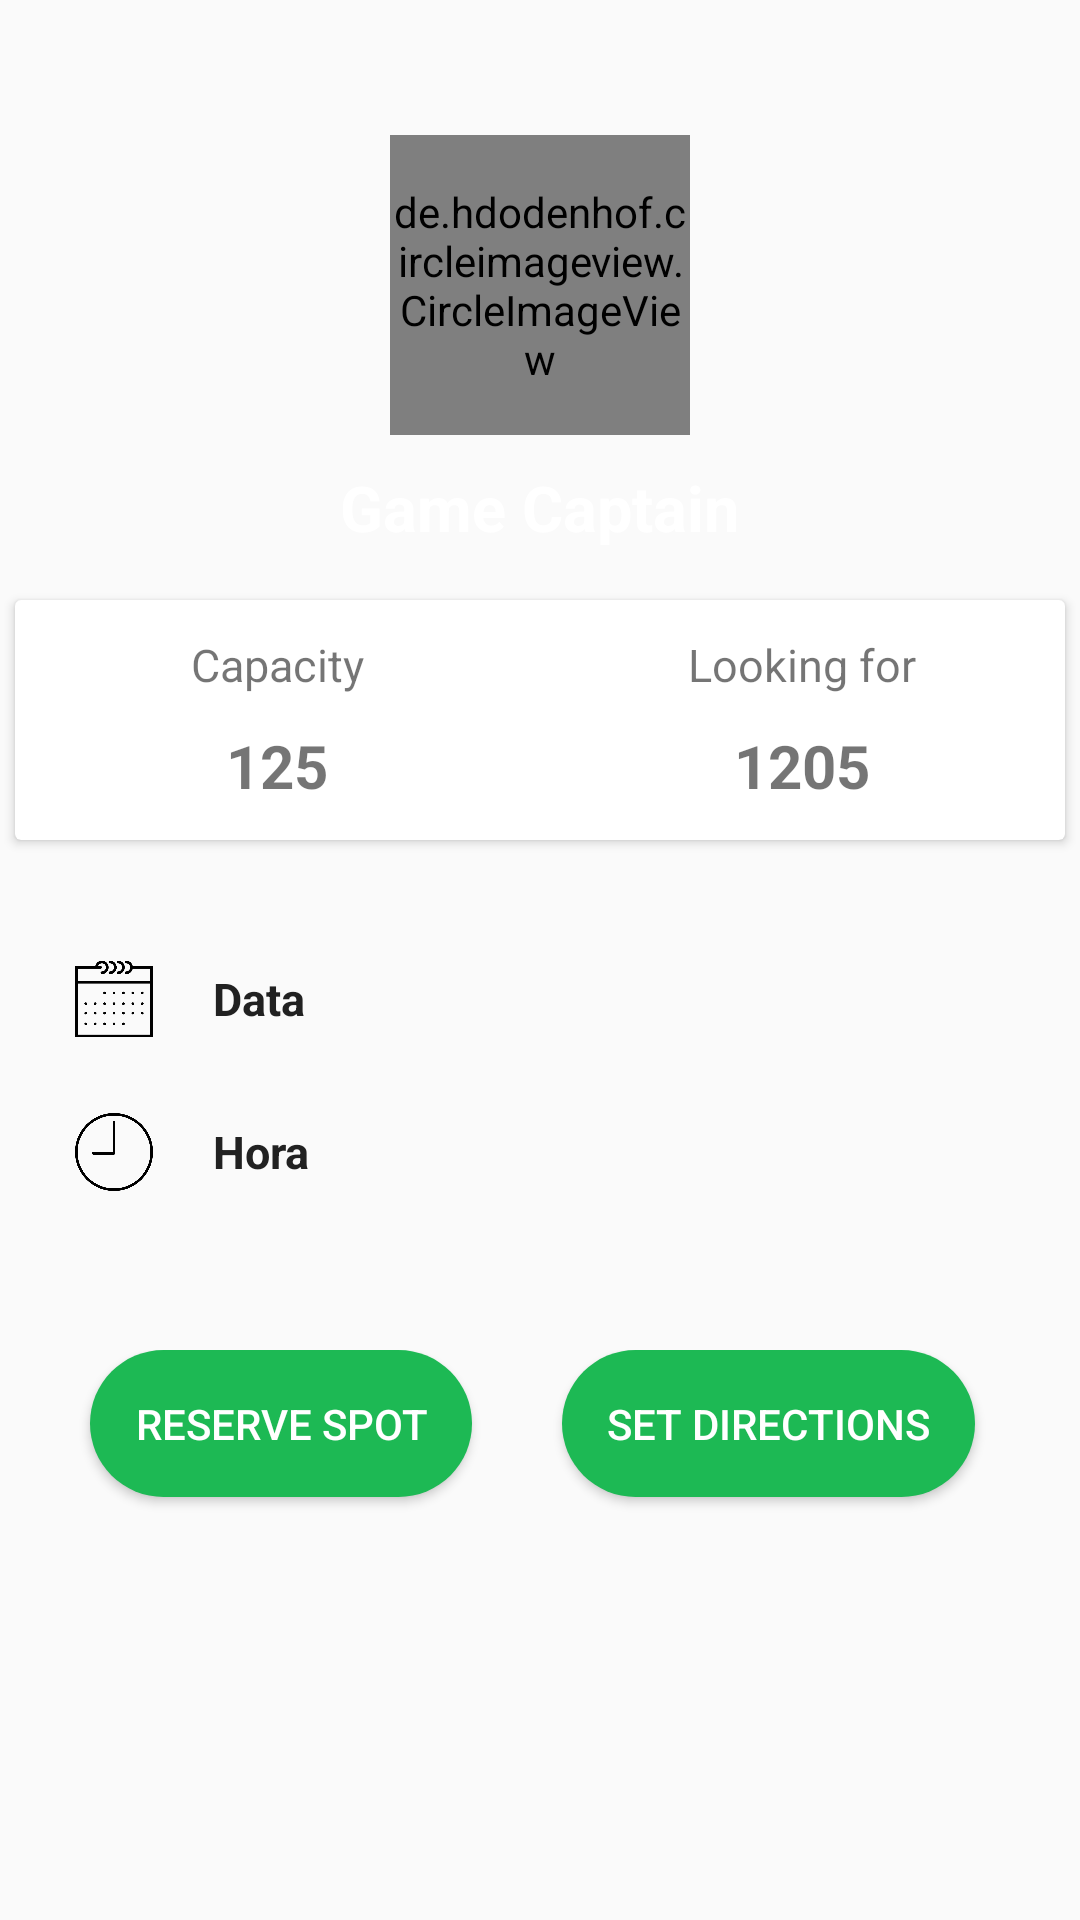

Icons on this 1080w x 1920h Android screen, each with the point to tap as [x,y]:
calendar: [114,999]
time: [114,1152]
